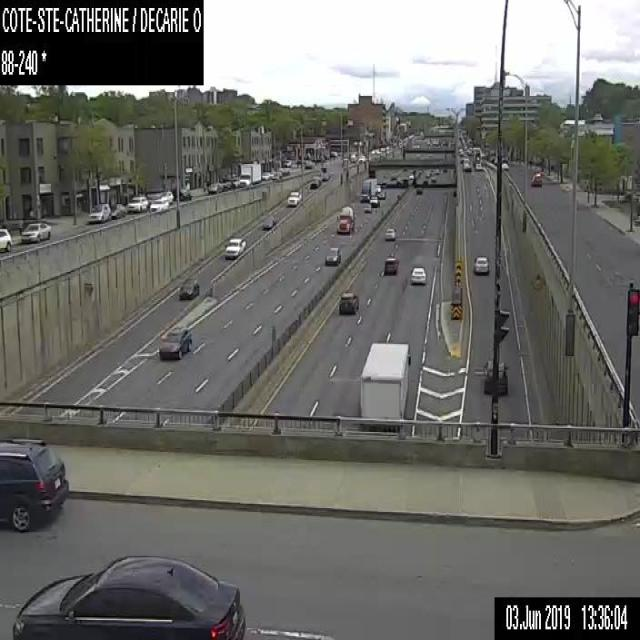vehicle: (12, 554, 245, 639), (0, 434, 67, 530), (359, 340, 408, 419), (158, 326, 191, 360), (482, 359, 508, 395), (336, 202, 356, 235), (20, 221, 50, 241), (238, 163, 260, 187), (338, 290, 358, 314), (86, 203, 110, 222), (179, 277, 198, 299), (359, 178, 376, 202), (225, 237, 245, 256), (127, 196, 147, 212), (325, 247, 340, 266), (0, 227, 11, 252), (410, 266, 425, 284), (383, 257, 398, 274), (110, 203, 125, 218), (474, 256, 488, 272), (287, 190, 301, 206), (149, 198, 163, 213), (261, 215, 275, 229), (208, 182, 225, 192), (179, 188, 192, 200), (161, 191, 172, 203), (531, 172, 541, 185), (462, 157, 471, 171), (397, 177, 408, 188), (310, 177, 320, 188), (384, 228, 394, 238), (261, 172, 273, 180), (369, 196, 378, 206), (321, 173, 330, 180), (232, 176, 238, 186), (363, 204, 370, 212), (376, 192, 385, 198), (284, 159, 291, 166), (358, 155, 365, 162), (500, 162, 508, 168), (282, 169, 289, 175), (414, 187, 421, 193), (422, 180, 428, 186), (430, 176, 436, 182), (376, 184, 380, 191), (408, 174, 412, 178), (424, 173, 428, 177), (381, 146, 384, 150)
